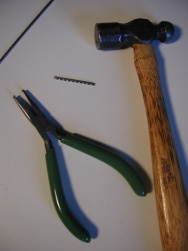hammer: (91, 16, 186, 251)
